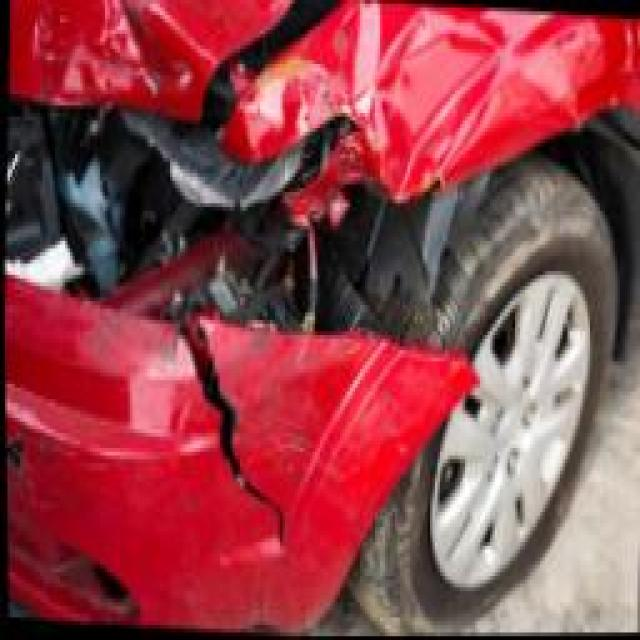Bumper: (4, 244, 475, 635)
Fender: (277, 1, 640, 229)
Light: (4, 91, 348, 270)
